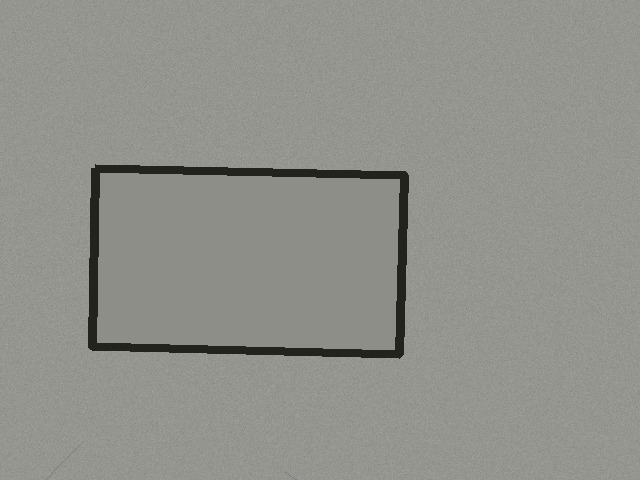parking_area: (92, 168, 404, 354)
